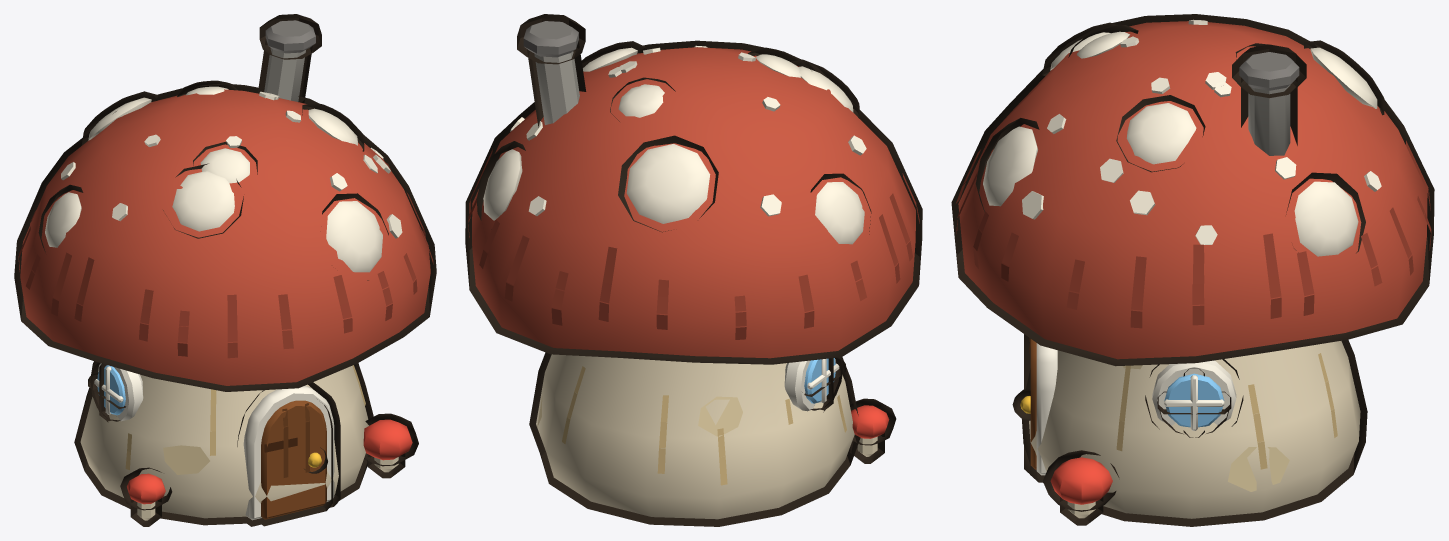
File: house-4.glb
The picture shows the model from 3 angles, left to right: view 1: azimuth 30°, elevation 25°; view 2: azimuth 150°, elevation 25°; view 3: azimuth 270°, elevation 25°; orthographic projection. The views are drawn at different scales.
Parts seen in each view (by area): view 1: house-4; view 2: house-4; view 3: house-4.
Part boxes in pixels (x1,y1,x2,y2): house-4: [14, 14, 436, 526]; house-4: [465, 14, 922, 526]; house-4: [951, 14, 1434, 526].
Size of the model in its own units: 3.27 by 3.37 by 3.22.
